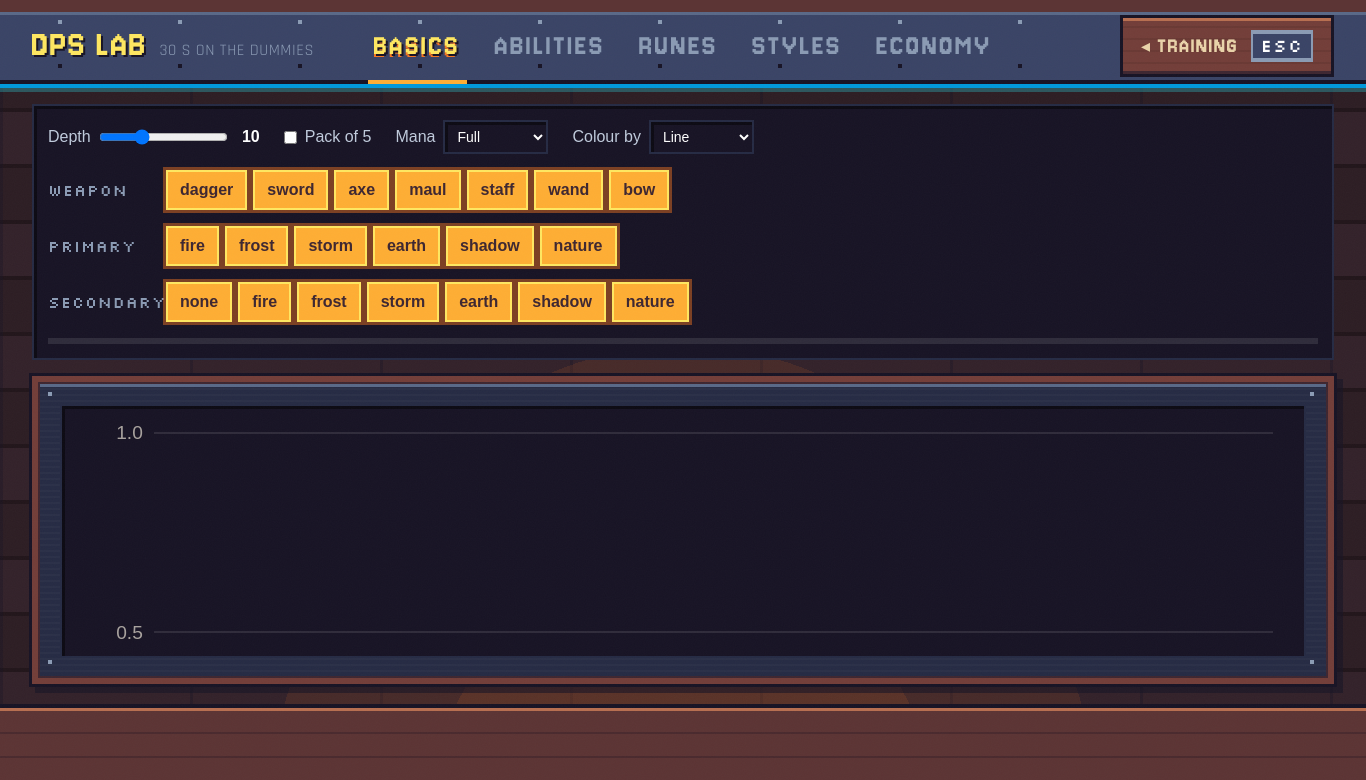
DelveLab › a new depth (on release) or Pack starts a fresh worker; a finished run is kept
Set the slider with test id "lab-depth" to "20" at (181,137), box [99,121,228,153]
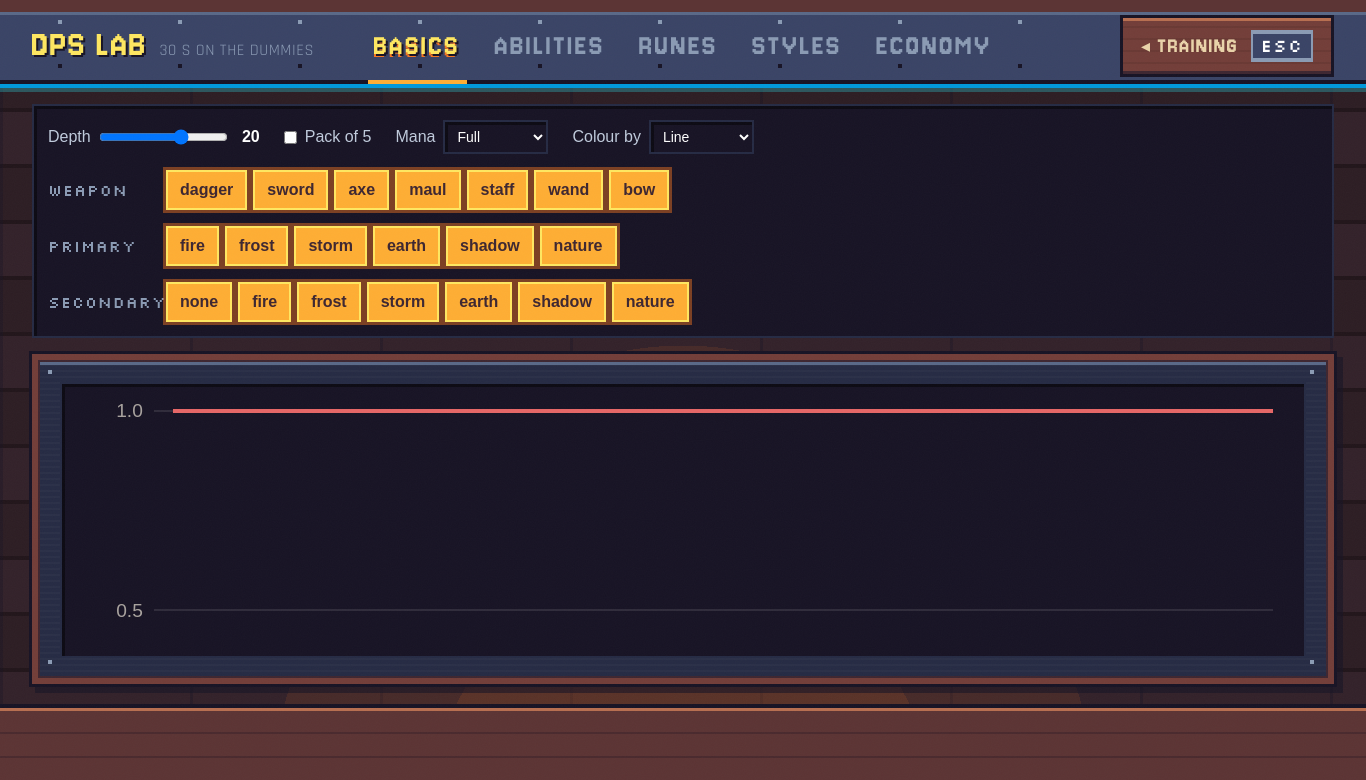
Result: the element with test id "lab-progress" is gone
Click the checkbox with test id "lab-pack" at (290,137), box [284,130,297,144]
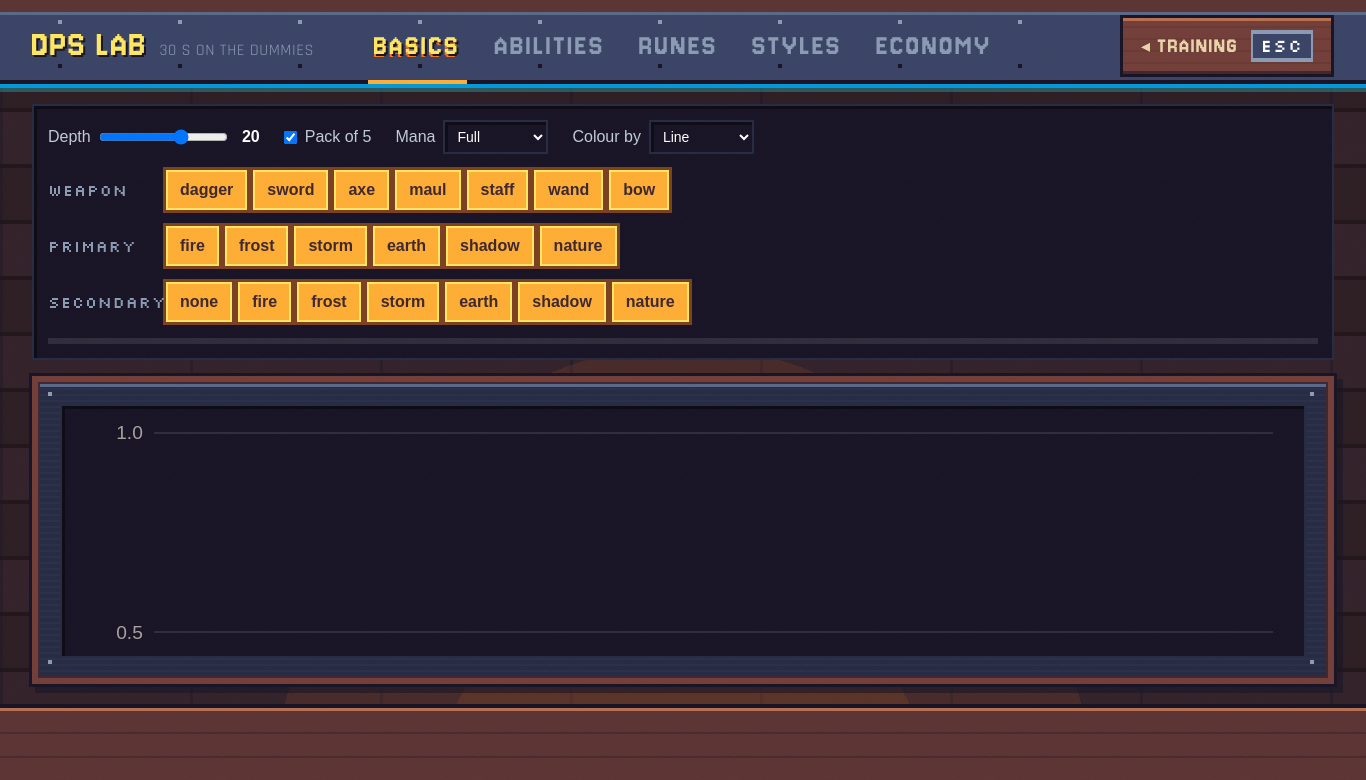
Click the checkbox with test id "lab-pack" at (290,137), box [284,130,297,144]
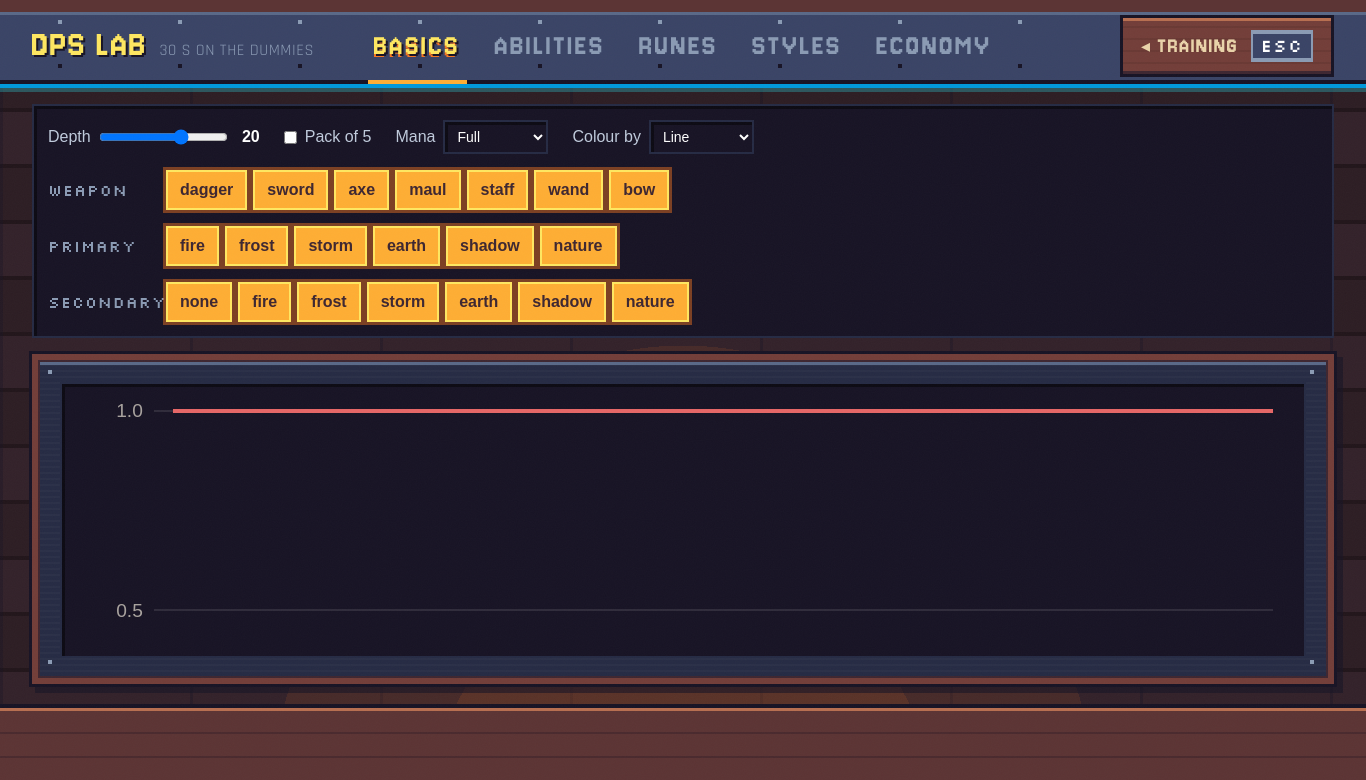
Result: the element with test id "lab-progress" is gone
